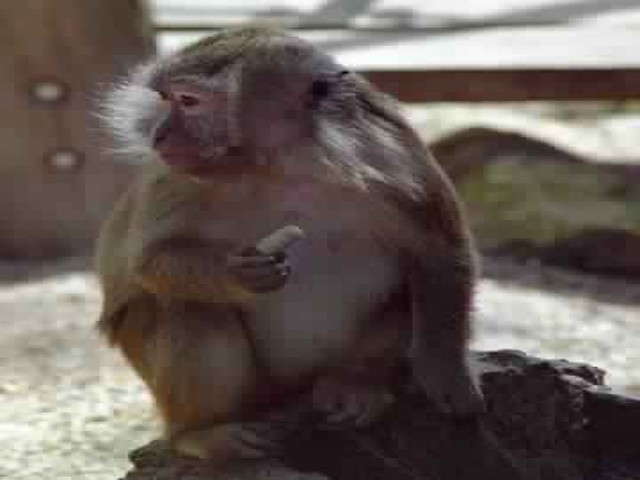Monkey: (94, 21, 517, 464)
